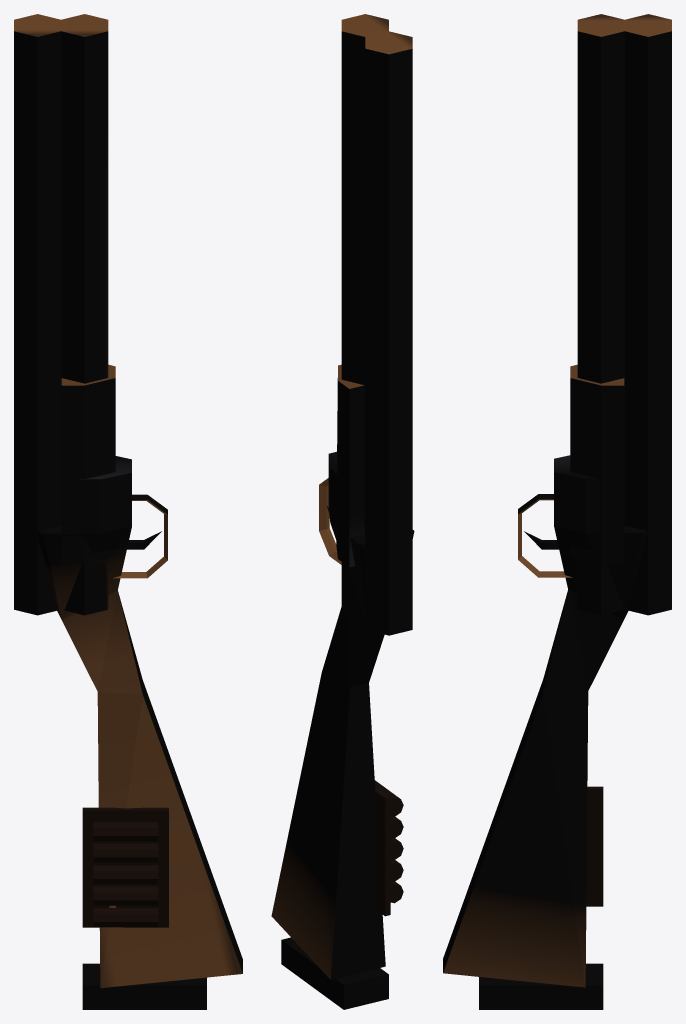
Rendered from HenryBigBoy__RecoilPad_Rubber__ShellHolder_Butt.fbx.
3 views of the same model, side by side, from view 1: azimuth 90°, elevation 25°; view 2: azimuth 210°, elevation 25°; view 3: azimuth 270°, elevation 25° (orthographic).
Parts seen in each view (by area): view 1: asset_HenryBigBoy.001; view 2: asset_HenryBigBoy.001; view 3: asset_HenryBigBoy.001.
Boxes of the visible parts, x1,y1,x2,y2 form: asset_HenryBigBoy.001: [14, 14, 242, 1009]; asset_HenryBigBoy.001: [271, 14, 414, 1009]; asset_HenryBigBoy.001: [443, 14, 671, 1009].
Bounding box in the file's own units: 0.0449 × 0.597 × 0.1272.
